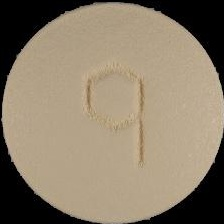54868-5574: (0, 0, 224, 224)
